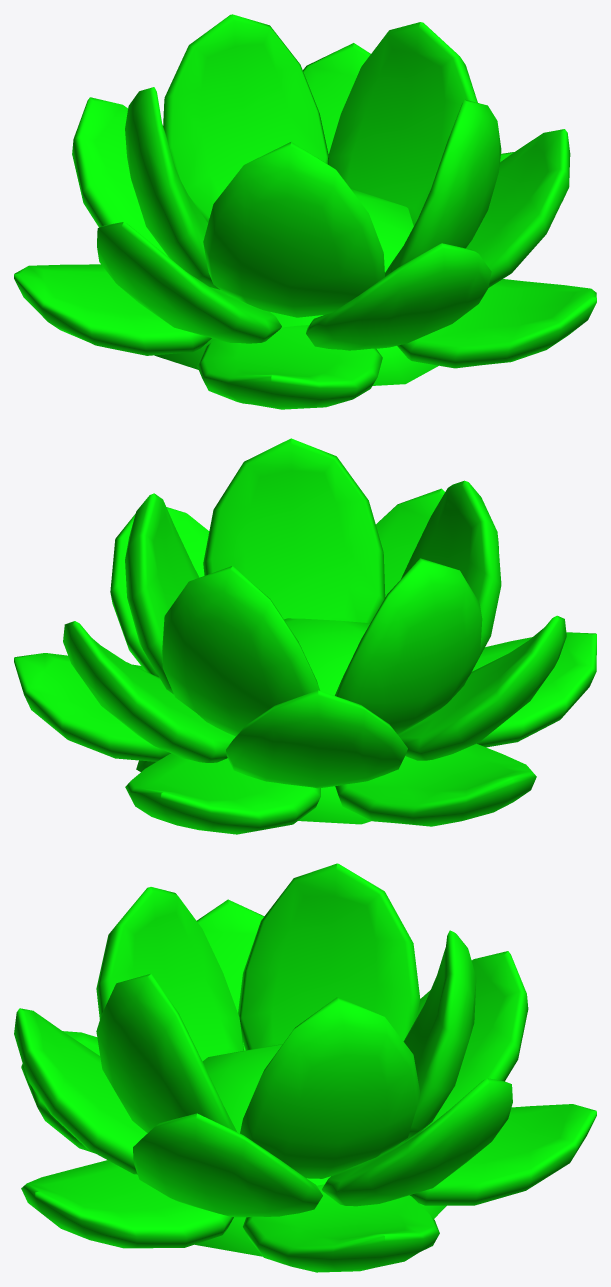
The model's file is Lotus_2.fbx.
3 renders of one model, top to bottom at view 1: azimuth 30°, elevation 25°; view 2: azimuth 150°, elevation 25°; view 3: azimuth 270°, elevation 25°, orthographic. The views are drawn at different scales.
Visible parts, largest first — view 1: Lotus_2; view 2: Lotus_2; view 3: Lotus_2.
Boxes of the visible parts, bbox=[...] form: Lotus_2: bbox=[14, 14, 596, 409]; Lotus_2: bbox=[14, 438, 596, 834]; Lotus_2: bbox=[14, 863, 596, 1272].
Bounding box in the file's own units: 182 × 87.39 × 178.
